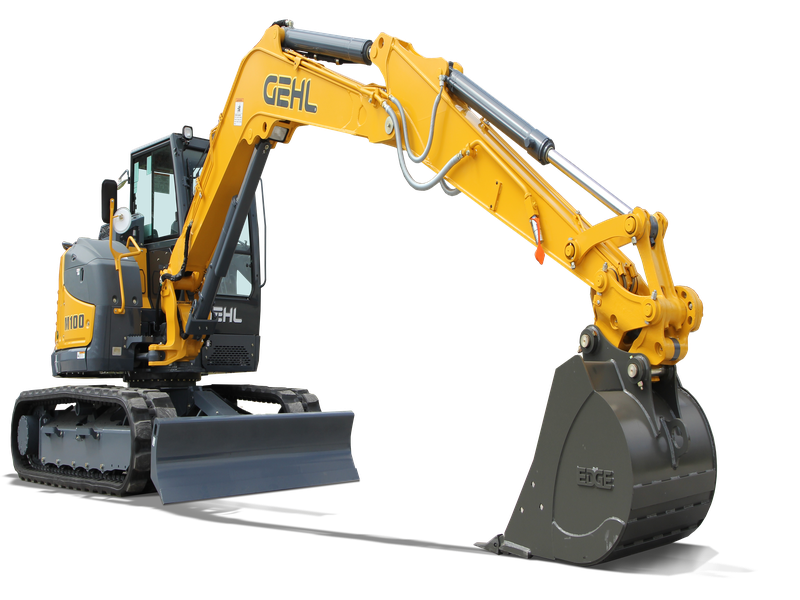shovel: (6, 14, 728, 575)
